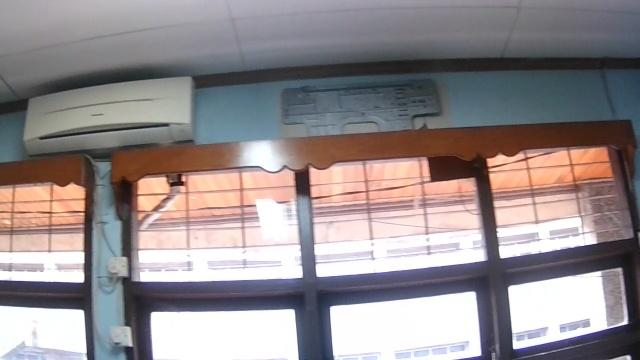AC: (21, 75, 196, 157)
